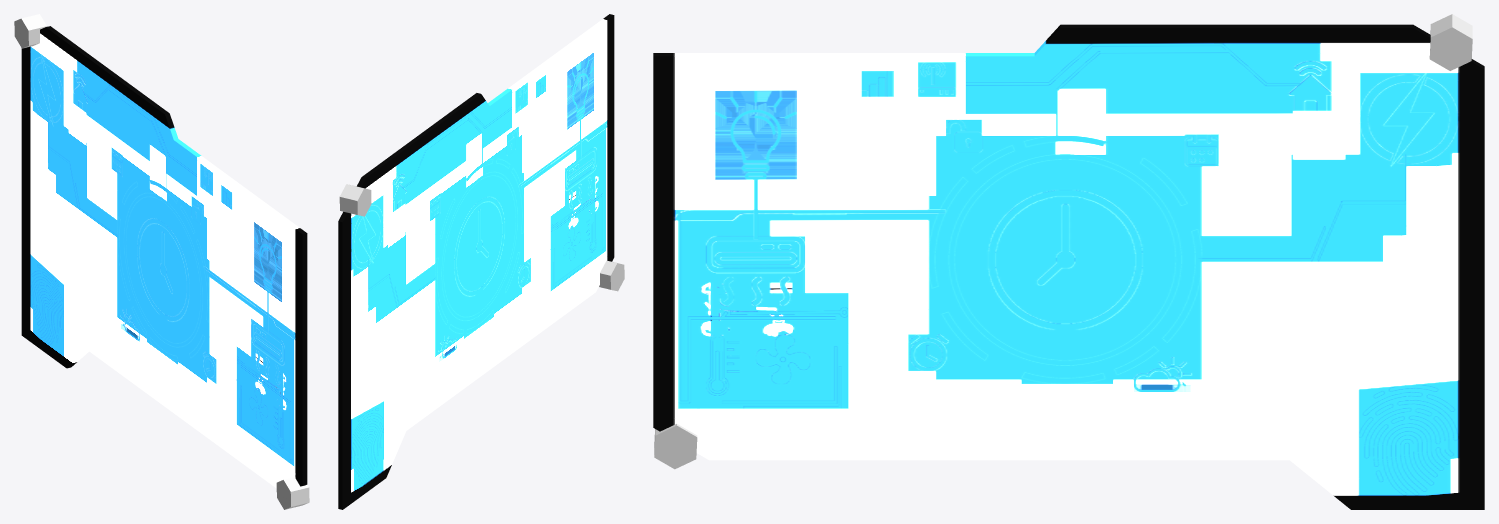
Rendered from jarvis.glb.
3 renders of one model, left to right at view 1: azimuth 30°, elevation 25°; view 2: azimuth 150°, elevation 25°; view 3: azimuth 270°, elevation 25°, orthographic. The views are drawn at different scales.
Parts seen in each view (by area): view 1: J.A.R.V.I.S._0; view 2: J.A.R.V.I.S._0; view 3: J.A.R.V.I.S._0.
Part boxes in pixels (x1,y1,x2,y2): J.A.R.V.I.S._0: (14,14,309,509); J.A.R.V.I.S._0: (338,14,624,509); J.A.R.V.I.S._0: (653,14,1484,509).
Size of the model in its own units: 0.0371 by 0.6303 by 0.9799.
2 materials, 1 textured.
